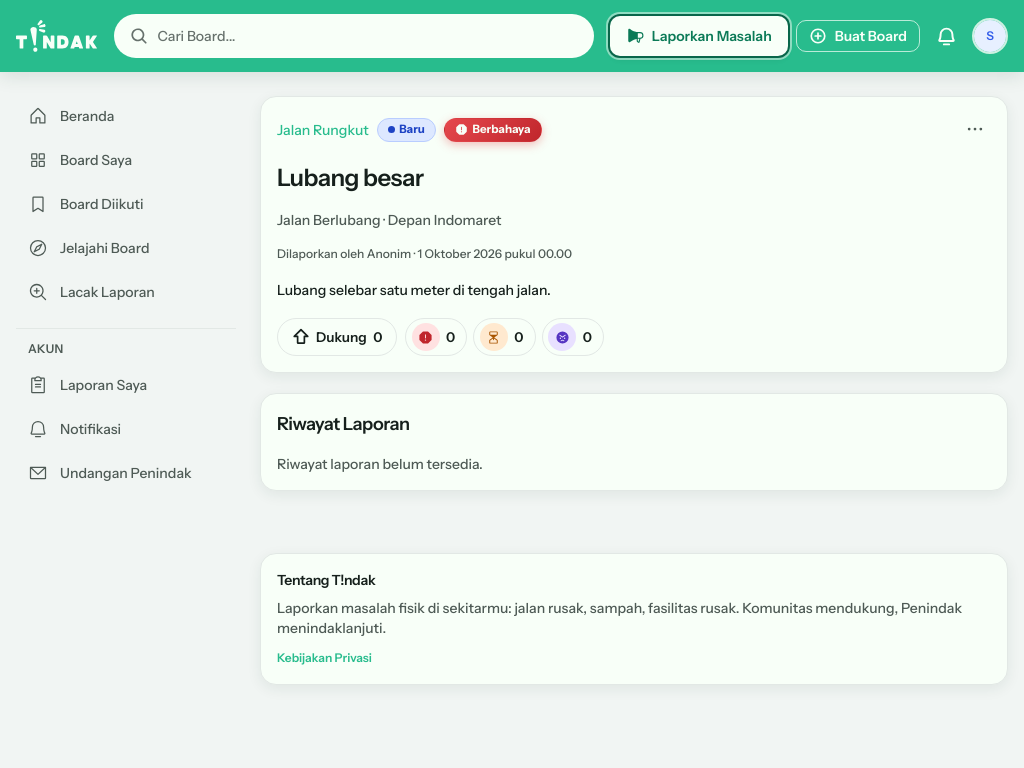
Test case: Tandai Pelanggaran › menampilkan pesan jika sudah pernah menandai
This screenshot has width=1024, height=768.
Click the button named "Opsi laporan" at point(975, 129), box [959,113,991,145]
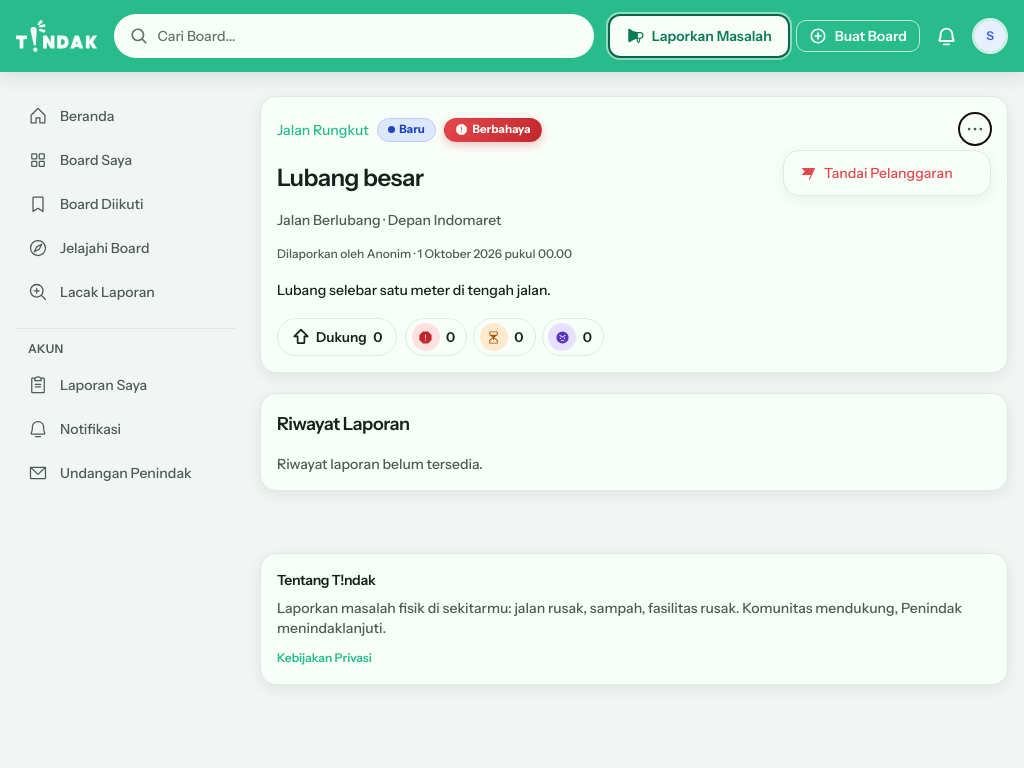
Click the menu item "Tandai Pelanggaran" at point(887, 173), box [788,155,986,191]
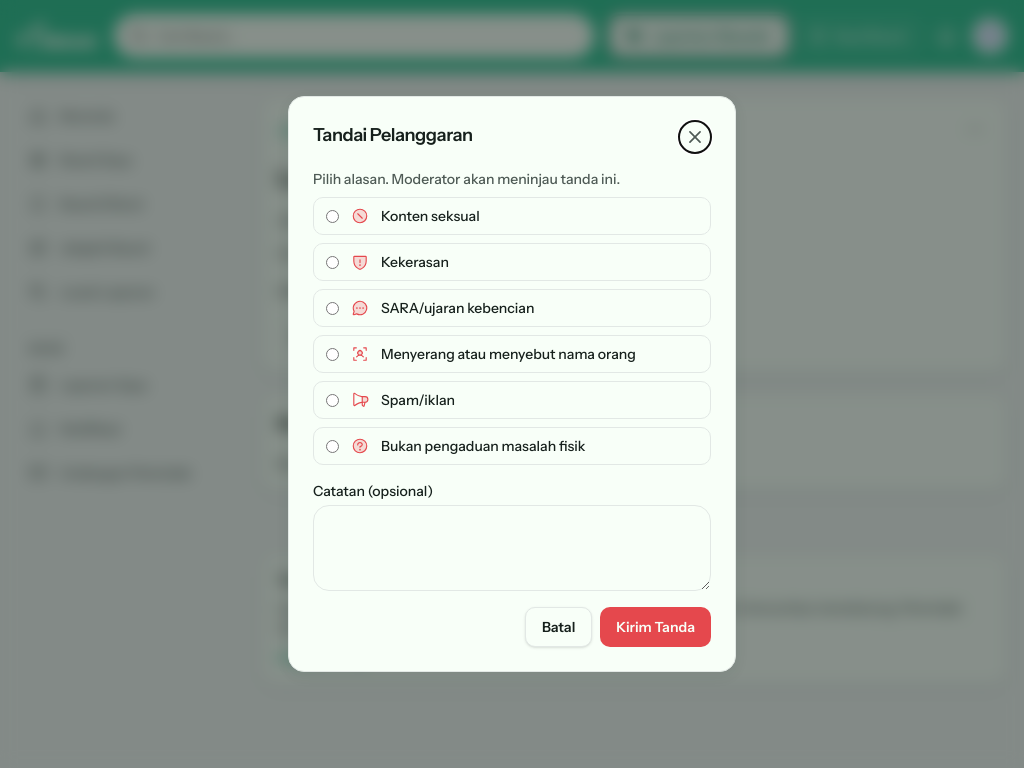
Click the radio button labelled "Kekerasan" at point(332, 262), box [326,256,339,268]
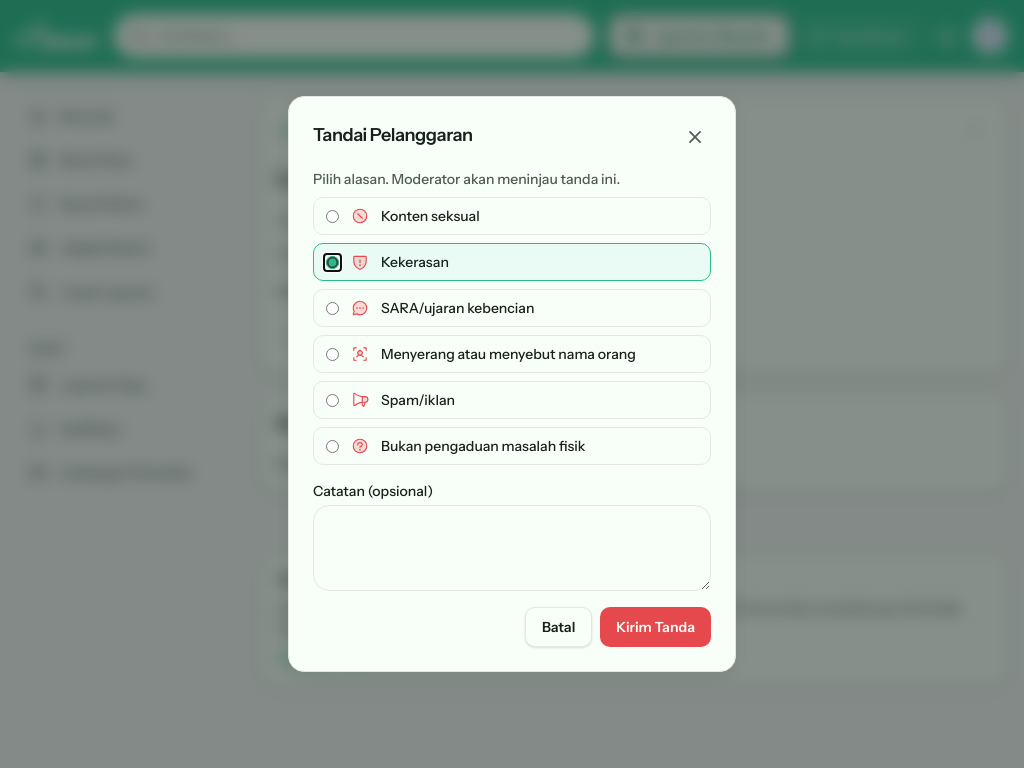
Click the button "Kirim Tanda" at point(656, 627), box [600,607,711,647]
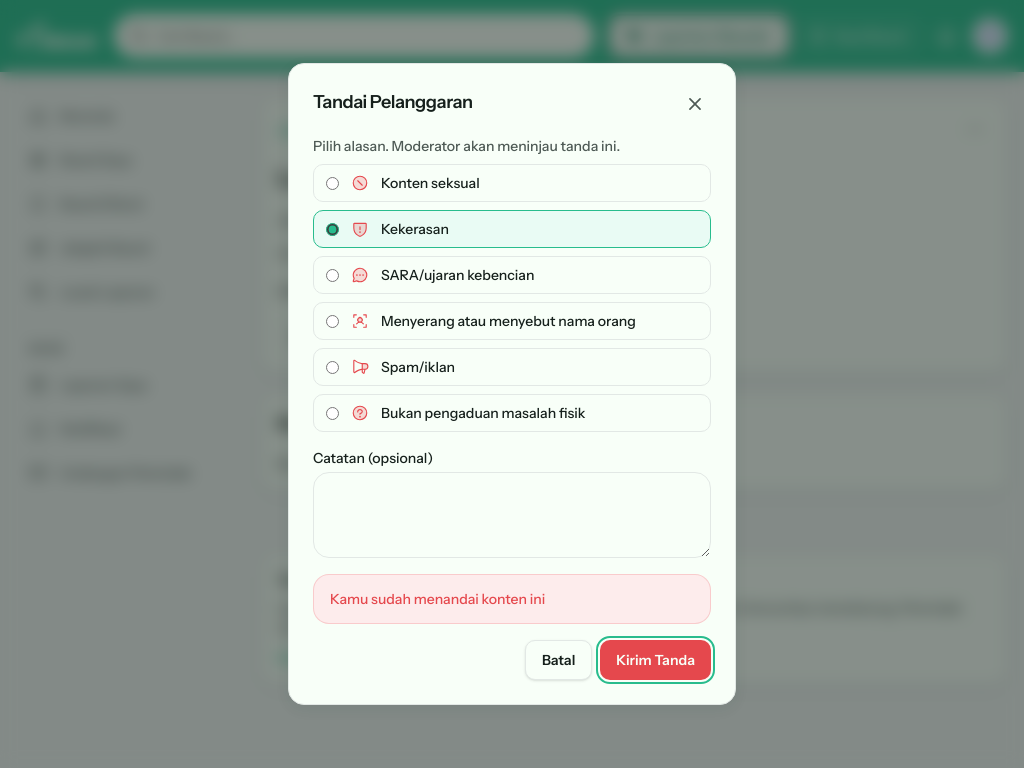
expect the text "Kamu sudah menandai konten ini" is shown: met, box [313,574,711,624]
